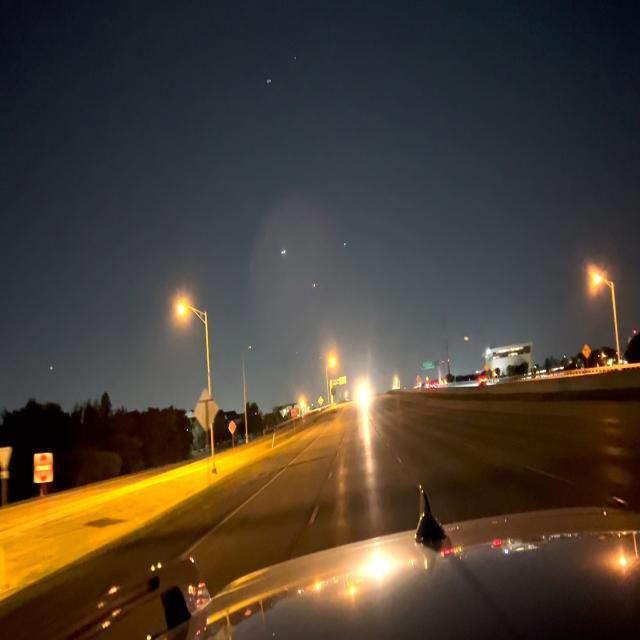back-of-sign: (194, 387, 218, 432)
